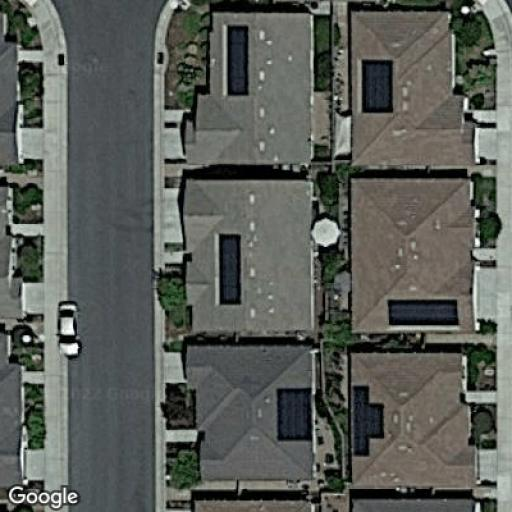solar-panel: (352, 383, 385, 458), (276, 386, 314, 444), (386, 298, 461, 326), (216, 232, 243, 306), (224, 23, 251, 97), (360, 58, 394, 116)
